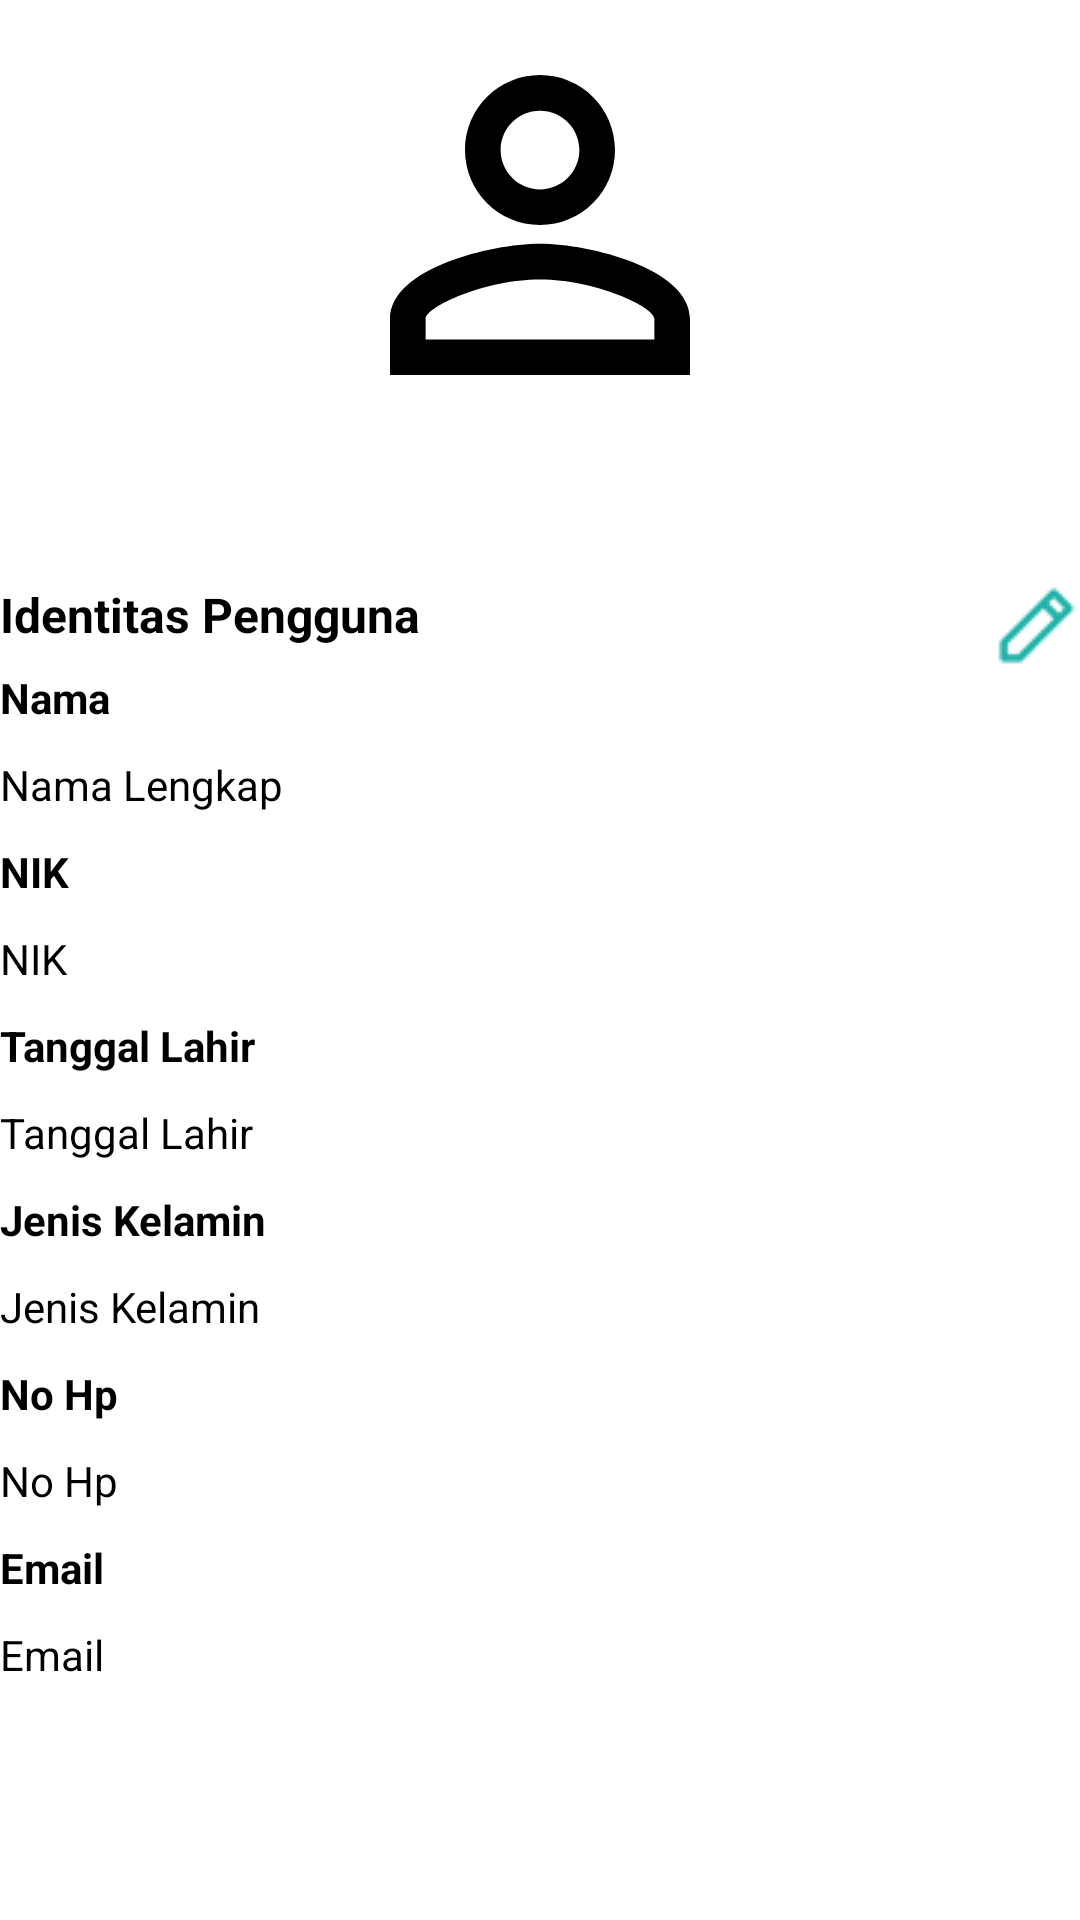

Screen size 1080×1920. Icon name, then its box in pixels as (x1, y1, x2, y2):
profile: (390, 75, 690, 375)
